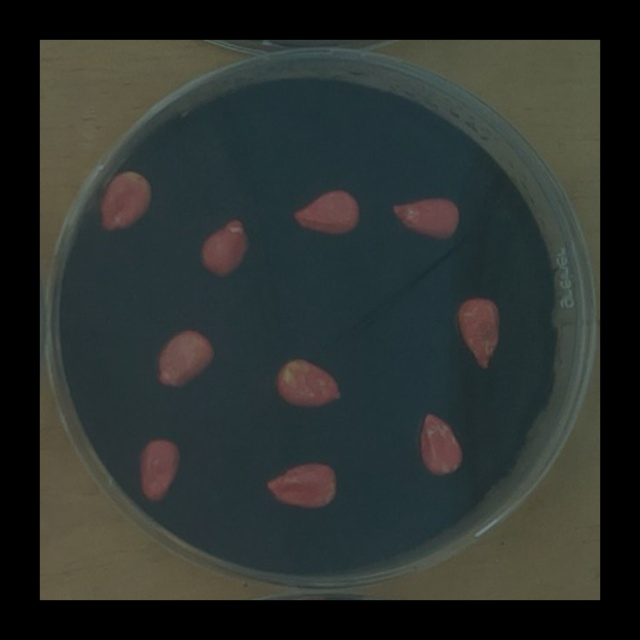Zea mays: (259, 456, 343, 516), (150, 324, 221, 394), (270, 352, 347, 415), (93, 164, 158, 237), (287, 182, 365, 241), (453, 291, 506, 376), (386, 190, 464, 247), (413, 405, 470, 482), (197, 214, 255, 284), (133, 432, 186, 507)
